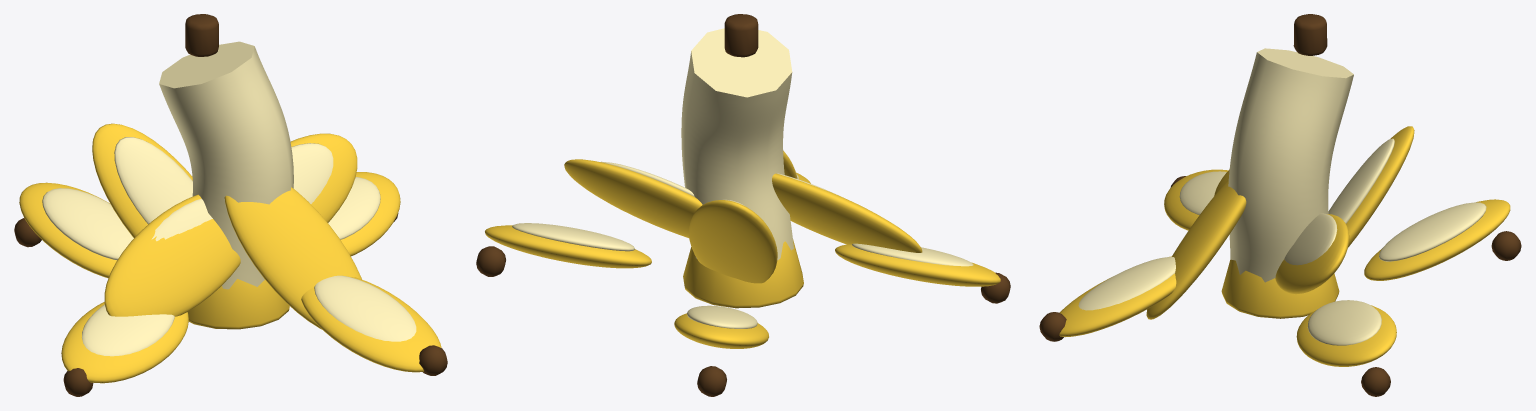
The model's file is pisang.glb.
3 views of the same model, side by side, from view 1: azimuth 30°, elevation 25°; view 2: azimuth 150°, elevation 25°; view 3: azimuth 270°, elevation 25° (orthographic). The views are drawn at different scales.
Parts seen in each view (by area): view 1: tube, Sphere.010, Sphere.015, Sphere.006, Sphere.018, Sphere.008, Sphere.017, Sphere.012, Cone, Sphere.013, Sphere.005, Sphere.007 (+9 smaller); view 2: tube, Sphere.005, Sphere.010, Sphere, Cone, Sphere.002, Sphere.012, Sphere.007, Sphere.003, Cylinder, Sphere.008, Sphere.013 (+3 smaller); view 3: tube, Sphere.015, Cone, Sphere.007, Sphere.008, Sphere.003, Sphere.017, Sphere.002, Sphere.018, Sphere, Sphere.005, Sphere.006 (+7 smaller).
Part boxes in pixels (box(x1,y1,x2,y2)): tube: box(159, 41, 293, 289); Sphere.010: box(104, 194, 240, 316); Sphere.015: box(224, 187, 361, 329); Sphere.006: box(114, 137, 192, 224); Sphere.018: box(314, 275, 416, 341); Sphere.008: box(42, 188, 133, 260); Sphere.017: box(301, 277, 441, 372); Sphere.012: box(61, 302, 188, 383); Cone: box(187, 279, 289, 329); Sphere.013: box(82, 304, 174, 356); Sphere.005: box(92, 123, 192, 237); Sphere.007: box(19, 182, 116, 278); tube: box(681, 28, 793, 260); Sphere.005: box(689, 200, 777, 283); Sphere.010: box(772, 173, 922, 252); Sphere: box(564, 159, 702, 237); Cone: box(683, 239, 803, 308); Sphere.002: box(485, 225, 651, 268); Sphere.012: box(835, 244, 1000, 286); Sphere.007: box(674, 313, 768, 348); Sphere.003: box(512, 223, 634, 251); Cylinder: box(724, 14, 758, 57); Sphere.008: box(687, 305, 757, 328); Sphere.013: box(852, 243, 973, 266); tube: box(1228, 48, 1353, 282); Sphere.015: box(1146, 180, 1246, 319); Cone: box(1221, 259, 1339, 318); Sphere.007: box(1364, 199, 1510, 280); Sphere.008: box(1379, 202, 1486, 261); Sphere.003: box(1307, 300, 1381, 345); Sphere.017: box(1059, 256, 1176, 337); Sphere.002: box(1296, 305, 1396, 366); Sphere.018: box(1078, 256, 1175, 310); Sphere: box(1275, 214, 1349, 294); Sphere.005: box(1346, 126, 1414, 247); Sphere.006: box(1328, 138, 1394, 223).
Size of the model in its own units: 1.93 by 1.21 by 1.93.
